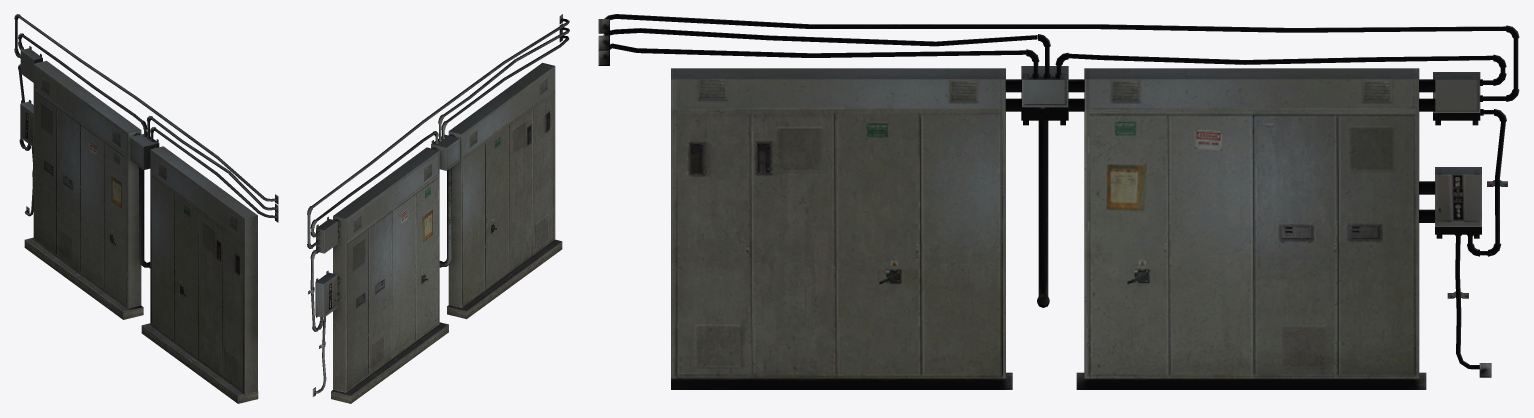
The model's file is electrical_panel1.fbx.
3 renders of one model, left to right at view 1: azimuth 30°, elevation 25°; view 2: azimuth 150°, elevation 25°; view 3: azimuth 270°, elevation 25°, orthographic. The views are drawn at different scales.
Parts seen in each view (by area): view 1: electrical_panel1.001; view 2: electrical_panel1.001; view 3: electrical_panel1.001.
Part boxes in pixels (left/top/right/bottom): electrical_panel1.001: left=14, top=14, right=278, bottom=403; electrical_panel1.001: left=307, top=14, right=569, bottom=403; electrical_panel1.001: left=598, top=14, right=1519, bottom=389.
Bounding box in the file's own units: 0.319 × 3.26 × 7.06.
1 material, 1 textured.
